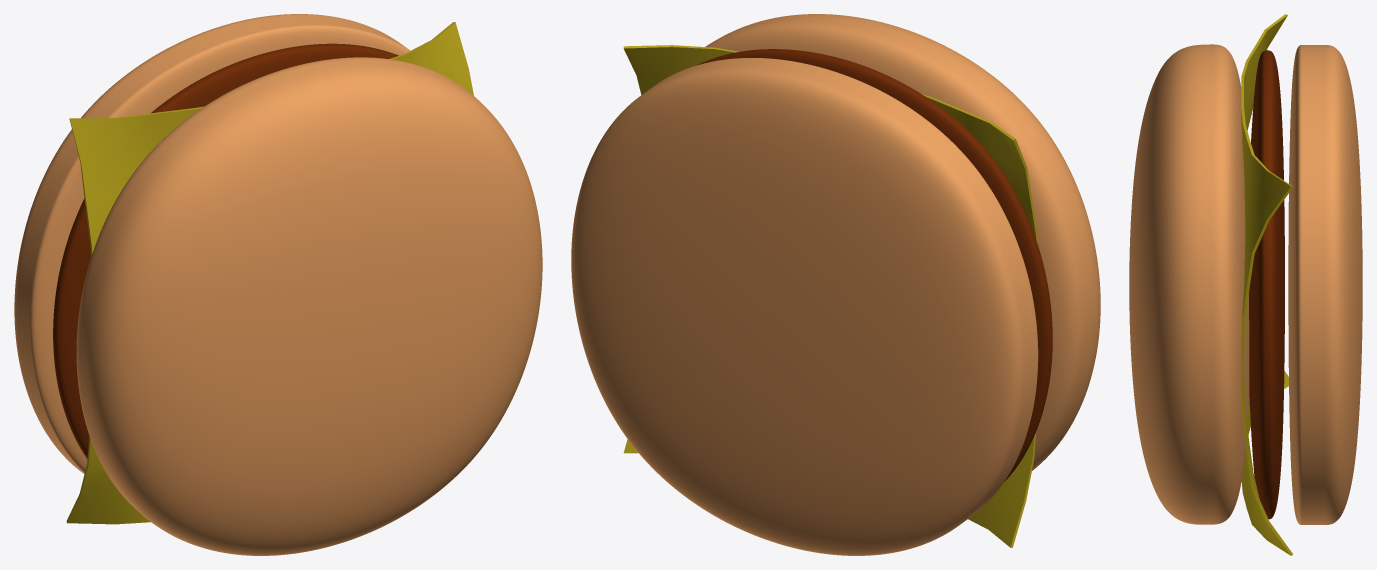
The model's file is humbergar_test2.glb.
The picture shows the model from 3 angles, left to right: view 1: azimuth 30°, elevation 25°; view 2: azimuth 150°, elevation 25°; view 3: azimuth 270°, elevation 25°; orthographic projection. The views are drawn at different scales.
Parts seen in each view (by area): view 1: Cube.002, Cube, Plane, Cube.001; view 2: Cube, Cube.002, Cube.001, Plane; view 3: Cube.002, Cube, Cube.001, Plane.
Part boxes in pixels (x1,y1,x2,y2): Cube.002: (76, 57, 542, 555); Cube: (14, 14, 410, 473); Plane: (66, 22, 473, 524); Cube.001: (53, 43, 398, 458); Cube: (571, 58, 1038, 555); Cube.002: (705, 14, 1100, 470); Cube.001: (697, 49, 1052, 481); Plane: (623, 45, 1038, 547); Cube.002: (1129, 44, 1249, 524); Cube: (1288, 45, 1362, 524); Cube.001: (1249, 50, 1284, 519); Plane: (1241, 14, 1292, 555).
Bounding box in the file's own units: 9.18 × 9.18 × 4.53.
